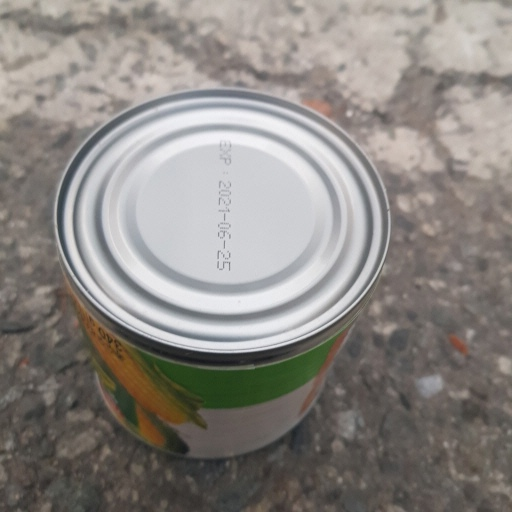Metal_1: (49, 86, 392, 464)
